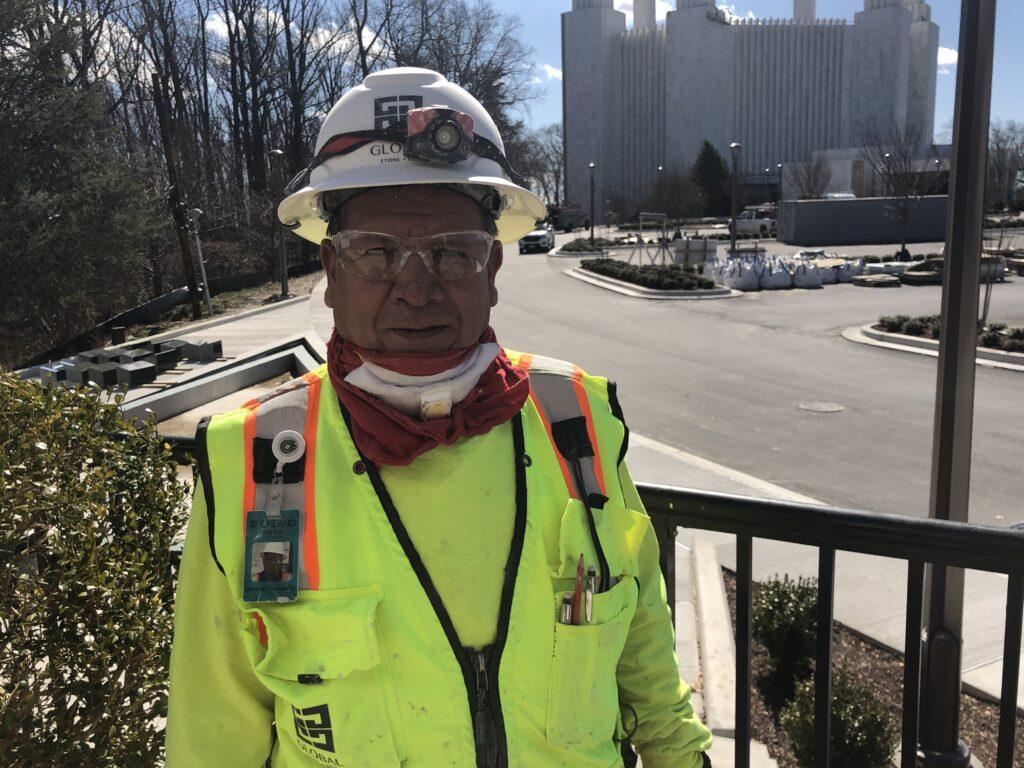hat: (231, 29, 579, 253)
vest: (177, 335, 703, 768)
